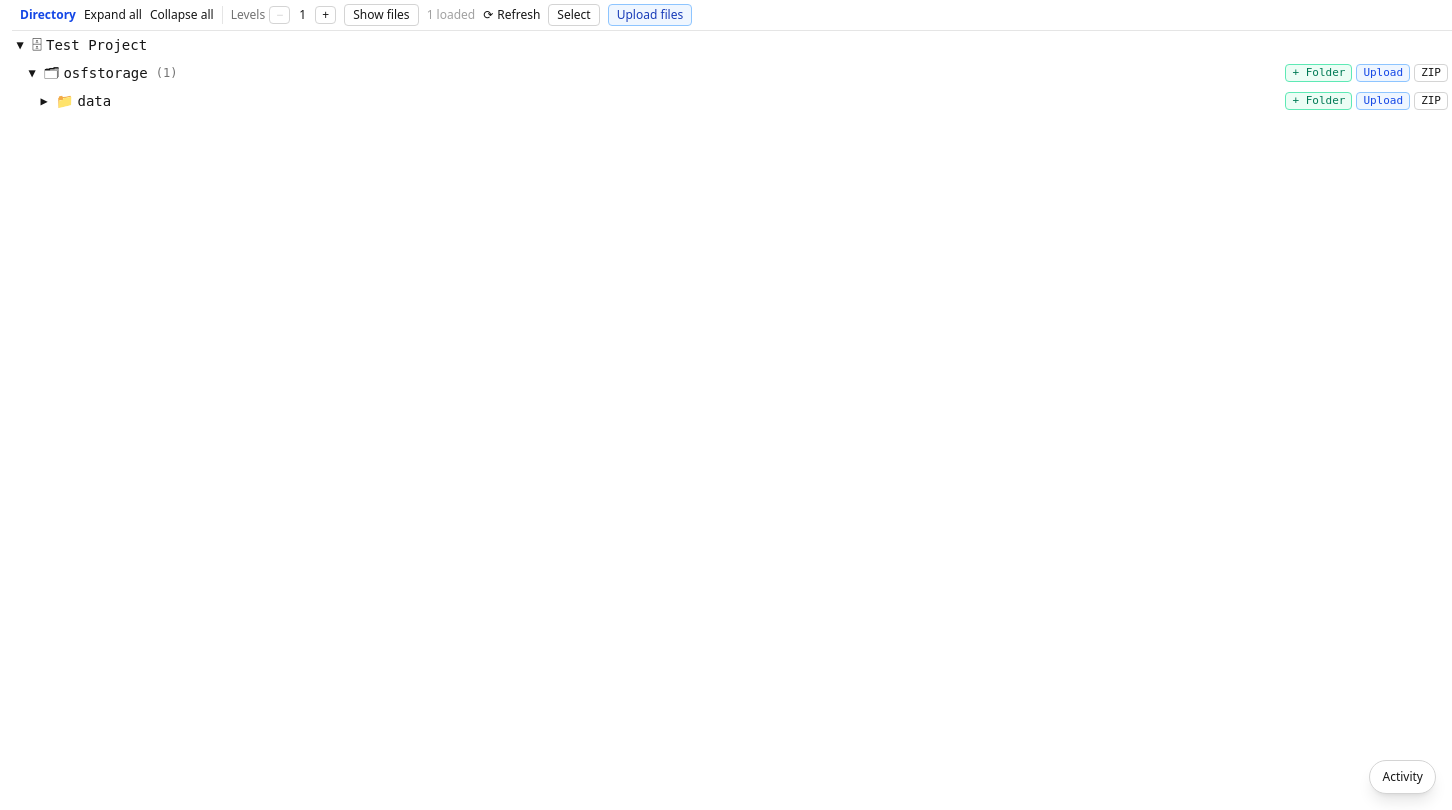
Test: UnifiedTree directory view › Collapse all collapses provider roots but keeps them visible
Expected: the text "data" is shown, 78,91 -> 111,111
Click the button "Collapse all": (182, 15) 150,7 -> 214,23
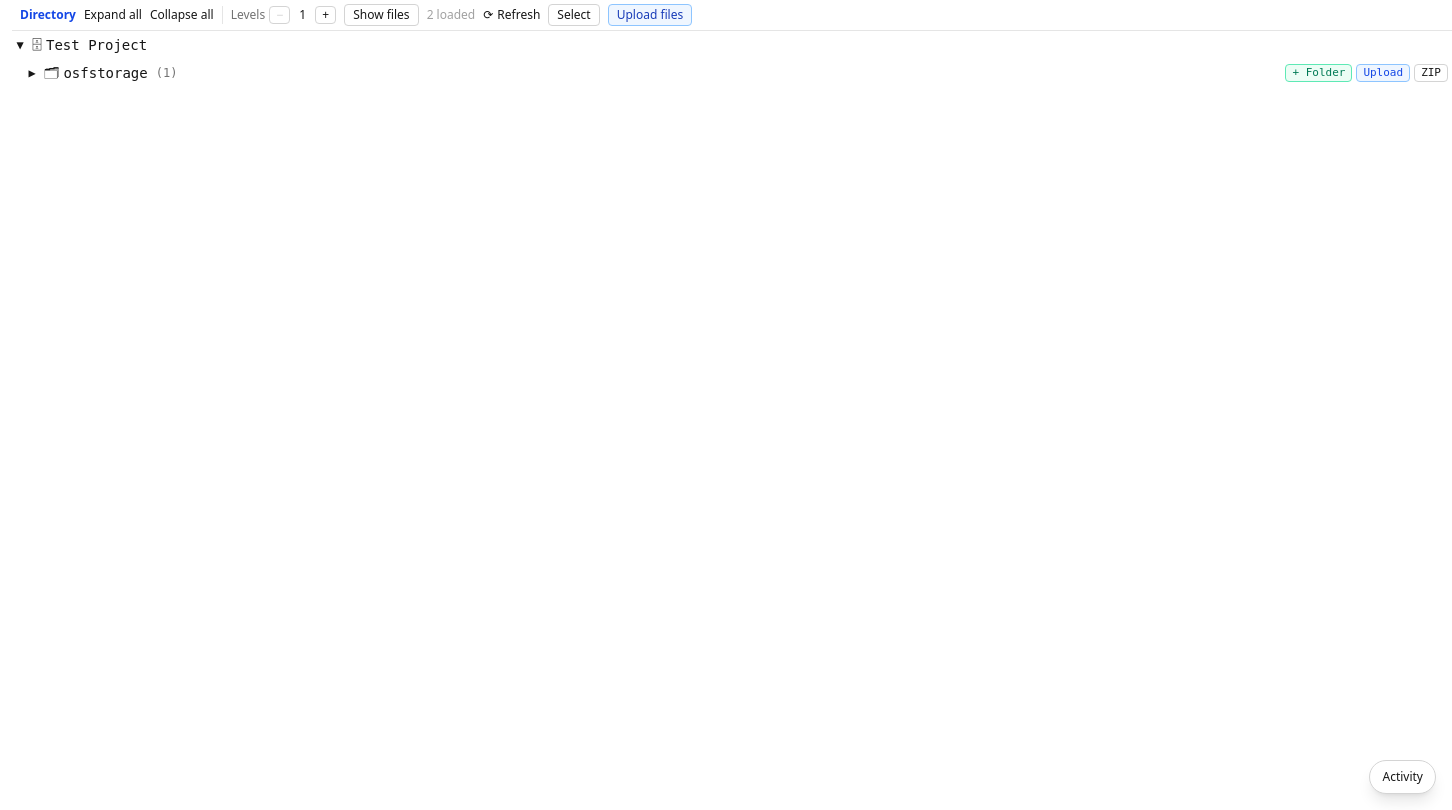
Expected: the text "osfstorage" is shown, 63,63 -> 148,83
Result: the link "data" is gone
